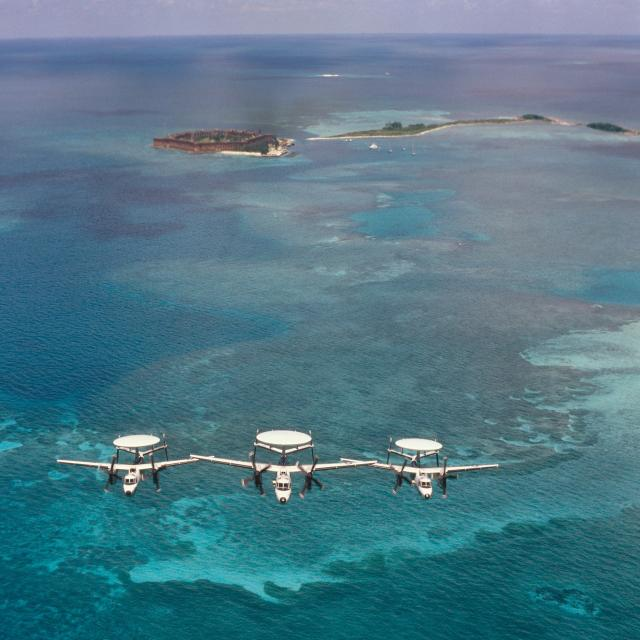MIL_Plane: (215, 423, 353, 501), (56, 432, 215, 497), (340, 465, 499, 472)
